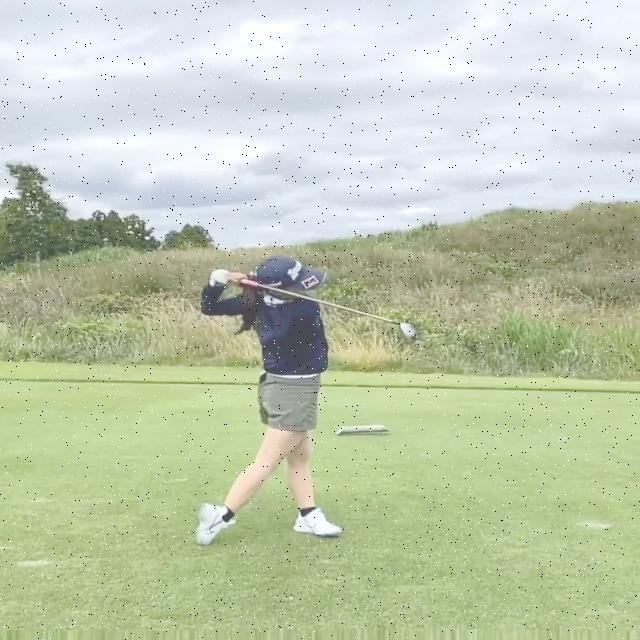ClubHandle: (240, 278, 415, 340)
ClubHead: (397, 322, 415, 339)
